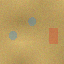person: (28, 17, 36, 26), (8, 30, 16, 39)
vehicle: (48, 27, 57, 43)
